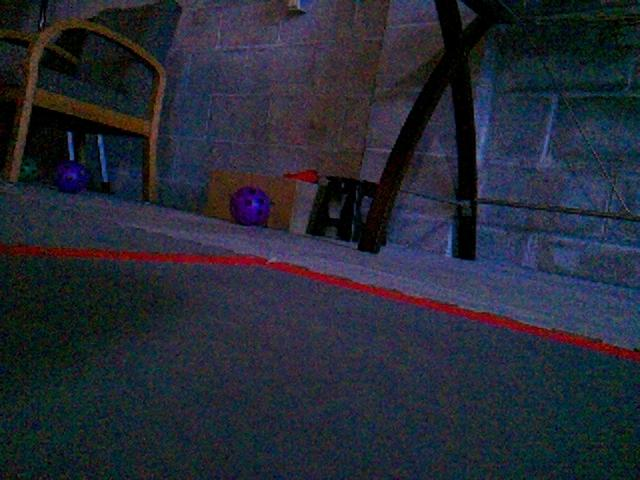Green: (17, 156, 41, 181)
Purple: (228, 185, 272, 225), (52, 160, 90, 193)
